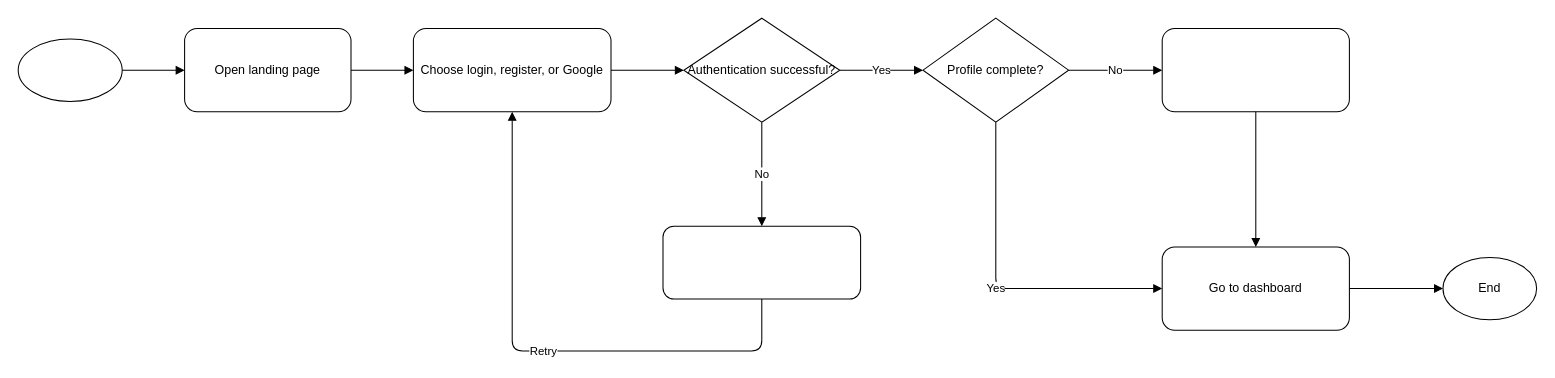
Some shapes in this 1555 by 378 pixel diagram are drawn without their labels. Here are the shapes that lost their labels. From the top down, the centre of each, then its label:
At [69,69]: "Start".
At [1255,70]: "Complete onboarding".
At [761,262]: "Show error message".
